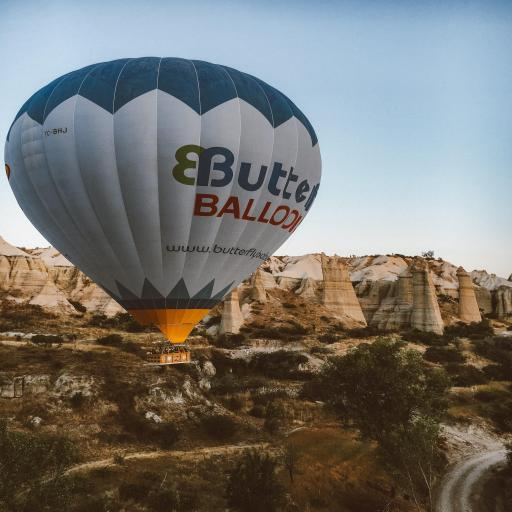hot air ballon: (3, 58, 322, 365)
